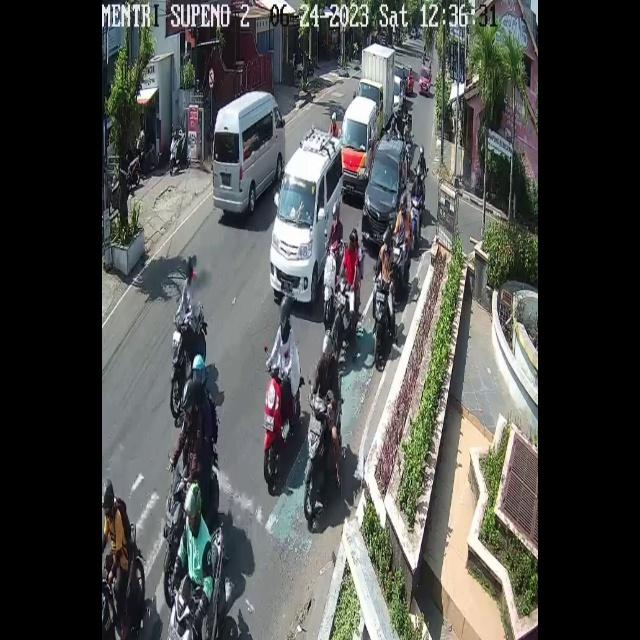bus: (164, 440, 220, 604), (169, 521, 228, 640), (303, 372, 341, 525), (102, 523, 145, 635), (263, 358, 301, 482), (170, 302, 207, 419), (331, 276, 361, 358), (373, 279, 394, 366), (323, 244, 337, 326), (394, 236, 408, 310), (411, 195, 422, 255)
car: (212, 90, 285, 215)
motorcycle: (270, 126, 344, 306), (363, 134, 408, 250), (341, 97, 379, 195), (420, 64, 432, 98), (394, 76, 404, 116)
truck: (359, 44, 394, 130)
